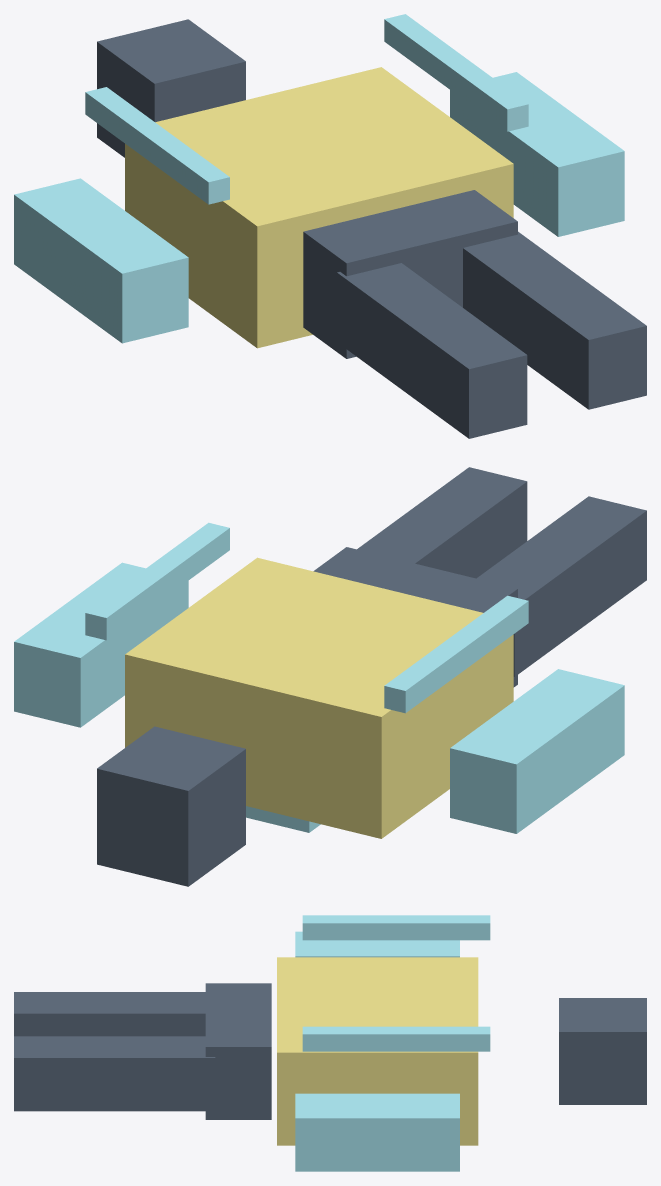
The model's file is juno-spark_male_battle.glb.
3 views of the same model, one above another, from view 1: azimuth 30°, elevation 25°; view 2: azimuth 150°, elevation 25°; view 3: azimuth 270°, elevation 25° (orthographic). The views are drawn at different scales.
Parts seen in each view (by area): view 1: juno-spark_male_body; view 2: juno-spark_male_body; view 3: juno-spark_male_body.
Part boxes in pixels (x1=…): juno-spark_male_body: x1=14, y1=14, x2=646, y2=438; juno-spark_male_body: x1=14, y1=467, x2=646, y2=886; juno-spark_male_body: x1=14, y1=915, x2=646, y2=1171.
Size of the model in its own units: 1.18 by 0.435 by 1.69.
